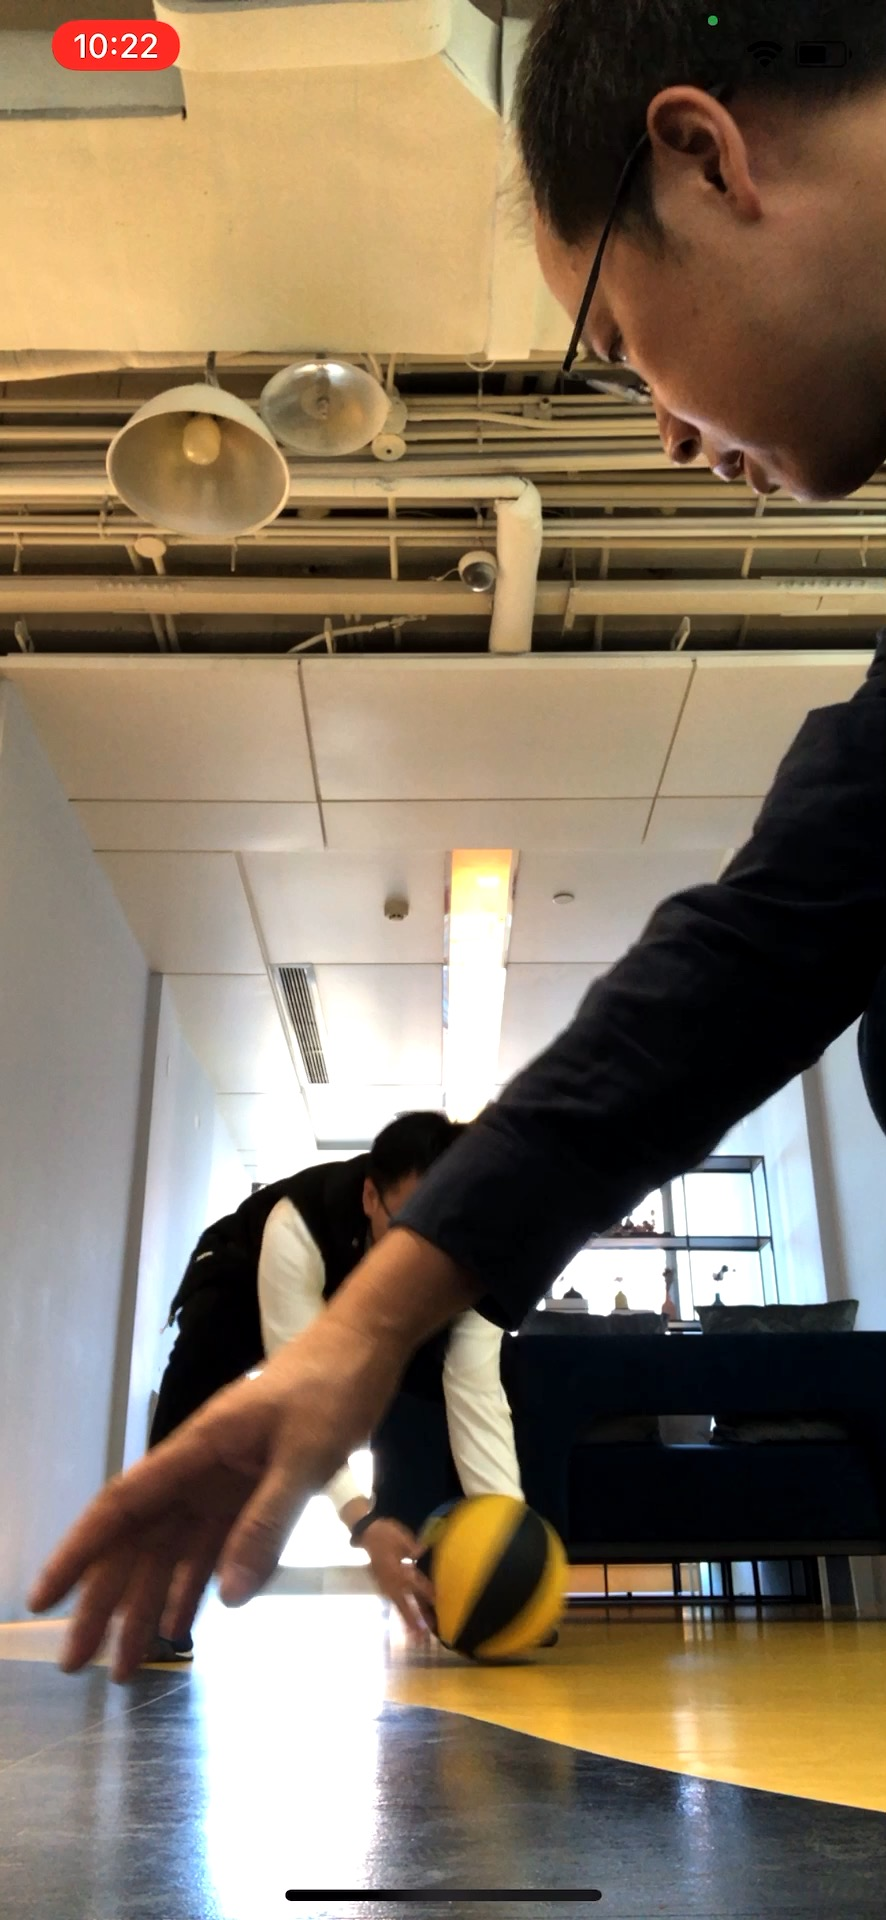ball: (414, 1494, 570, 1659)
